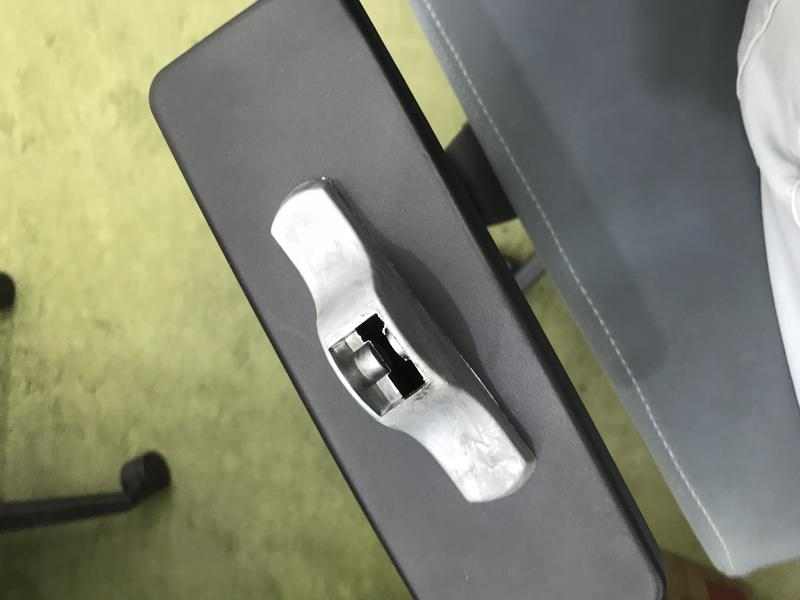zapchast: (257, 164, 551, 531)
